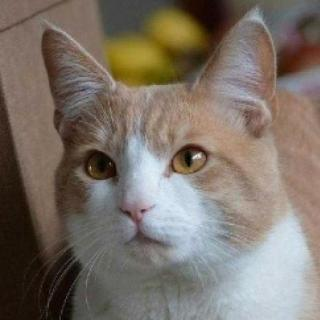cat: (42, 14, 288, 288)
nose: (114, 182, 159, 223)
